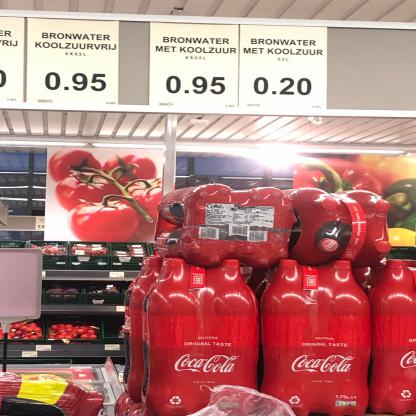prtg: (27, 19, 122, 106), (148, 24, 241, 108), (238, 26, 329, 110), (1, 17, 24, 104)
